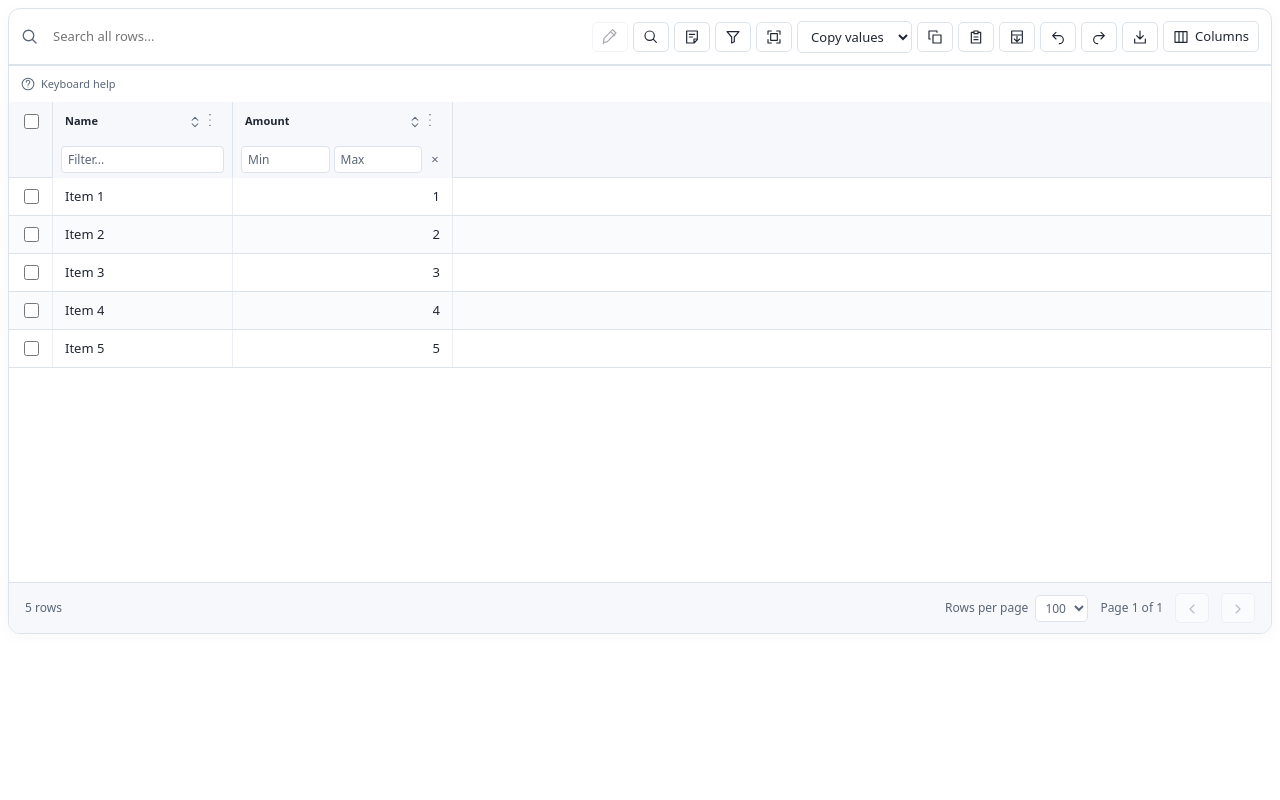
Test: controlled inclusive range filter › retains invalid or reversed drafts without replacing the last valid filter
The image size is (1280, 800).
Step 1. Type "3" into the field named "Filter Amount minimum" → (285, 159), box [241,146,330,172]
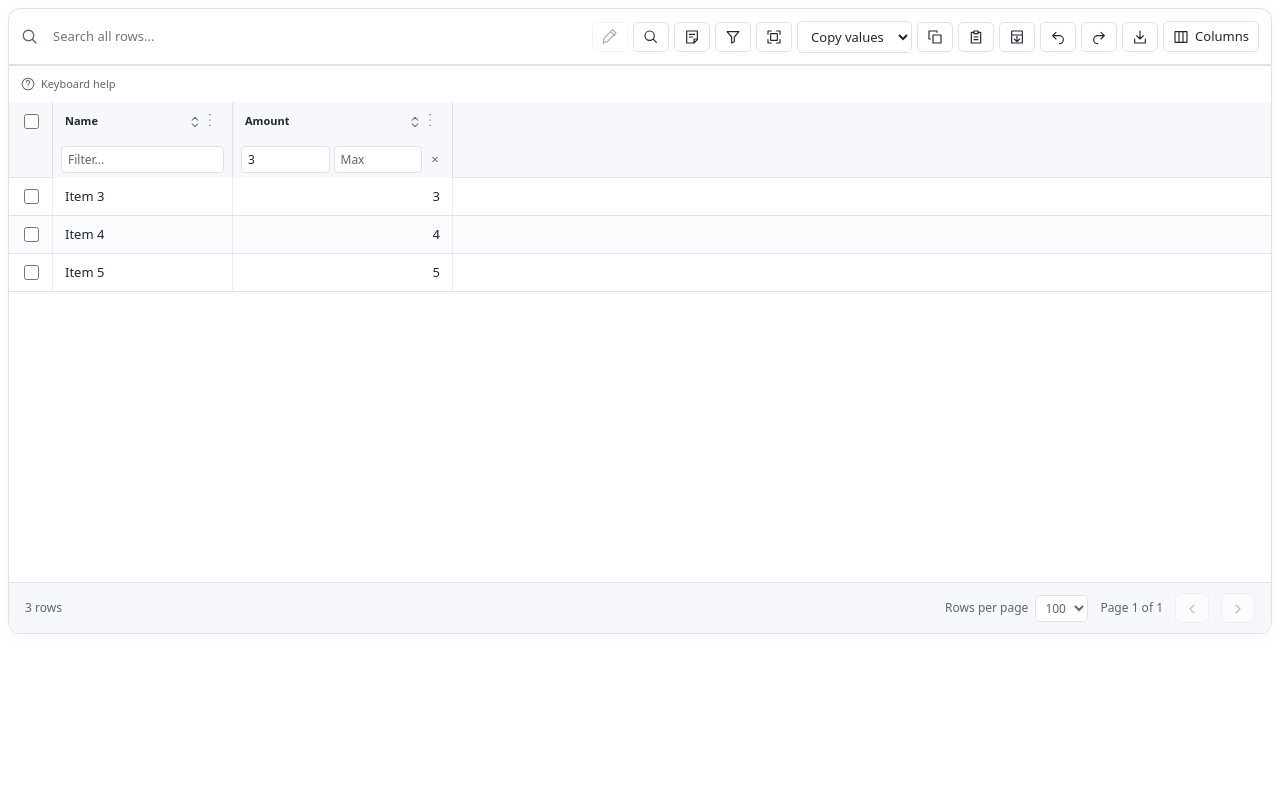
Step 2. Type "2" into the field named "Filter Amount maximum" → (378, 159), box [334,146,422,172]
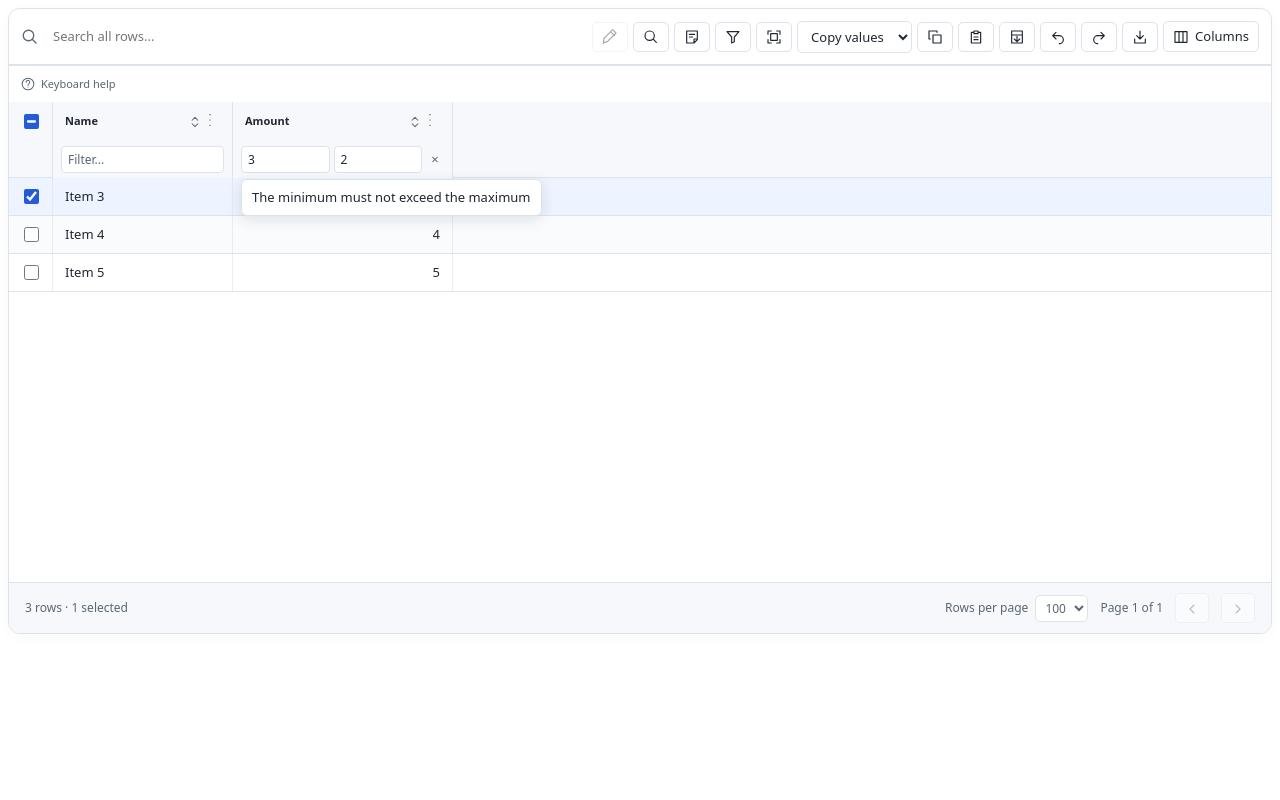
Expected: the message shows "must not exceed", [252,188,530,206]
Expected: the message "The minimum must not exceed the maximum" is shown, [241,179,542,216]
Step 3. Replace the text in the field named "Filter Amount maximum" with "5" → (378, 159), box [334,146,422,172]
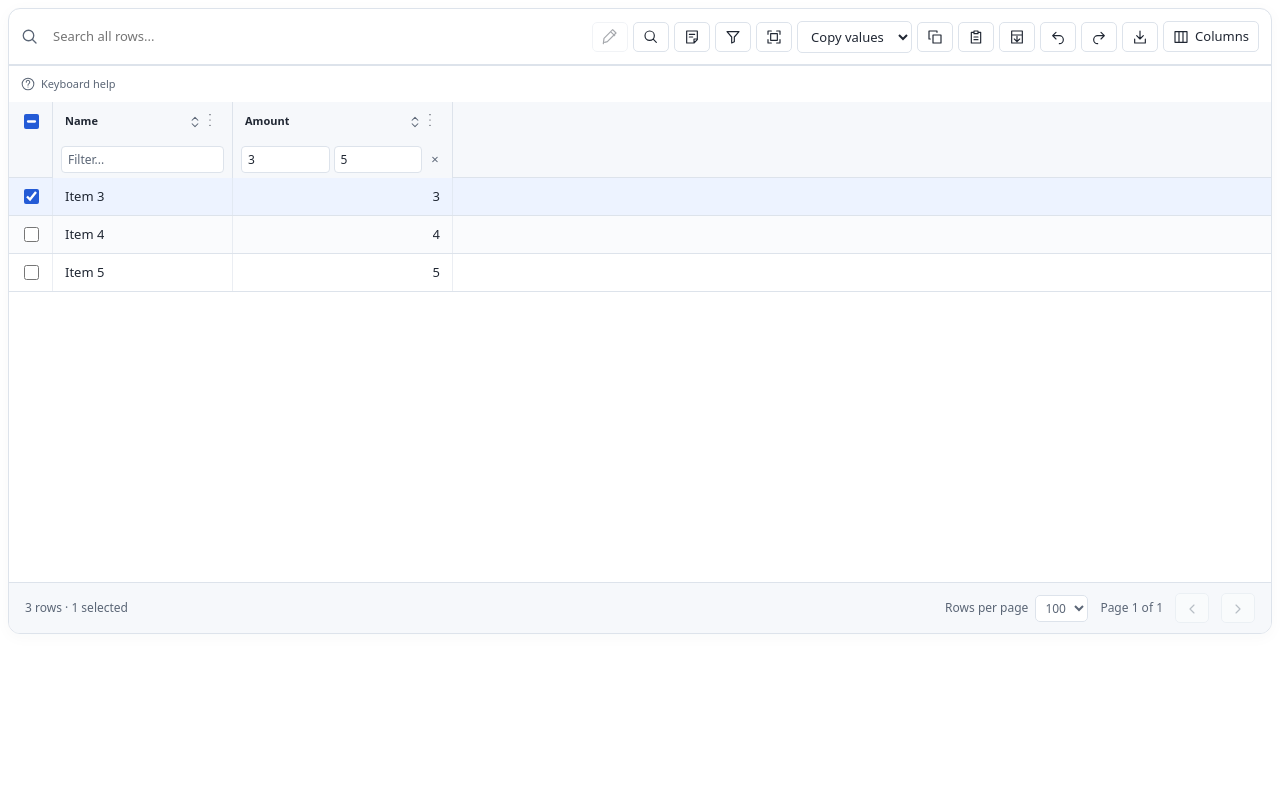
Expected: the message "The minimum must not exceed the maximum" is gone
